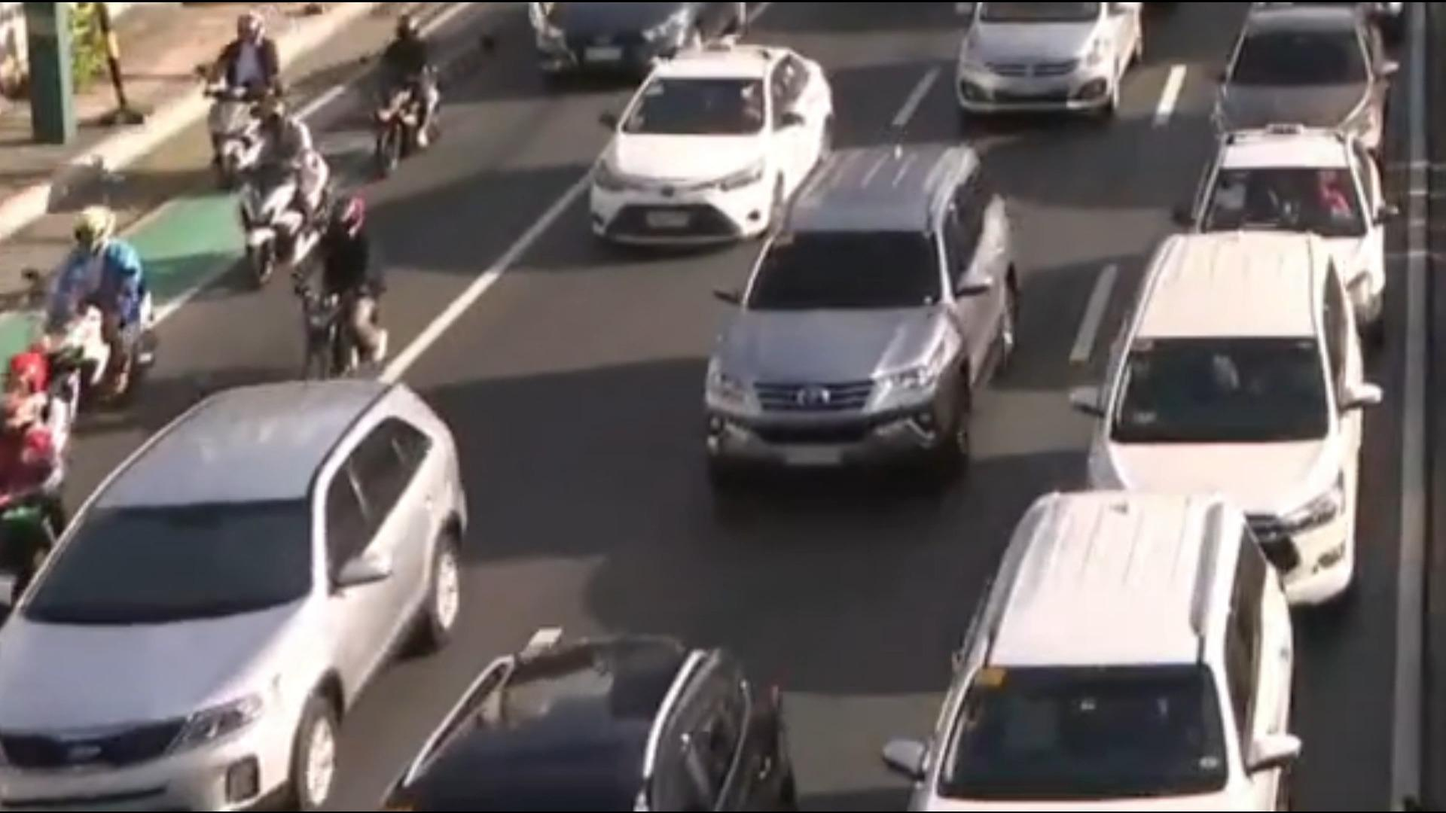Motorcycle: (0, 326, 134, 605), (277, 200, 439, 374), (34, 198, 164, 407), (215, 108, 352, 283), (361, 4, 492, 187), (188, 4, 313, 191)
SUV: (0, 367, 486, 813), (870, 450, 1372, 813), (644, 146, 1037, 520), (1049, 228, 1390, 634), (349, 616, 814, 813), (934, 0, 1162, 126)
Sedan: (1128, 117, 1411, 360), (575, 36, 851, 259), (1182, 0, 1409, 173)
